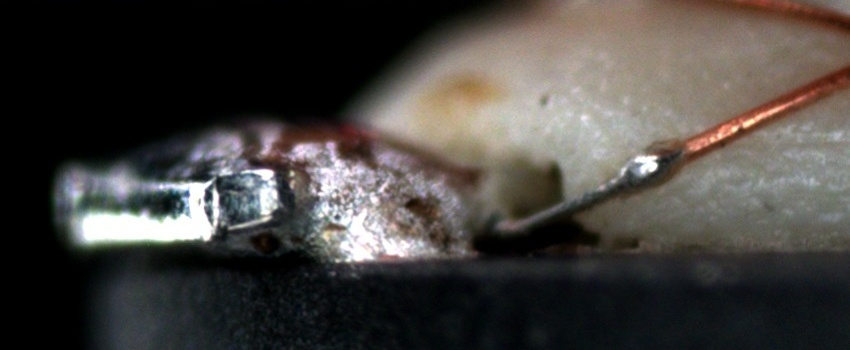DL: (736, 111, 849, 168)
TB: (608, 131, 690, 194)
TS: (496, 147, 686, 237)
TTCW: (484, 119, 732, 239)
